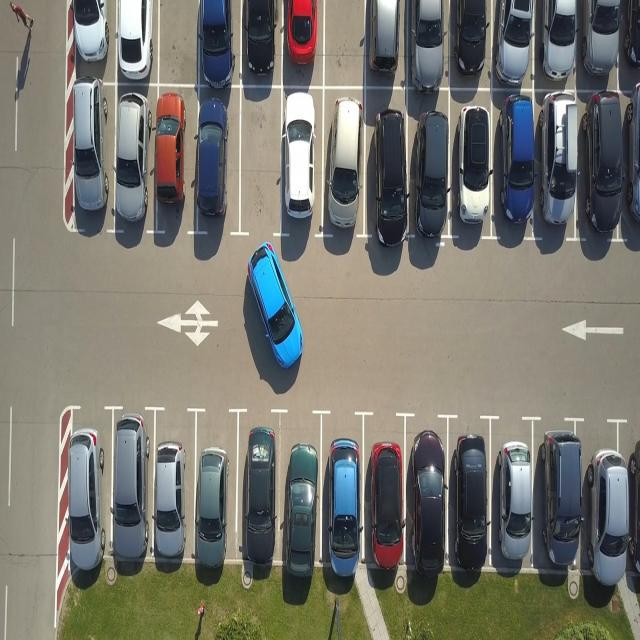space-empty: (237, 85, 283, 236), (321, 0, 369, 87), (155, 0, 199, 84)
space-occupied: (581, 434, 638, 593), (532, 417, 586, 578), (574, 92, 630, 241), (106, 402, 154, 572), (318, 408, 366, 577), (403, 412, 451, 575), (192, 405, 240, 567), (490, 90, 542, 237), (110, 71, 155, 237), (65, 81, 115, 230), (320, 86, 368, 241), (193, 85, 241, 239), (489, 415, 535, 572), (150, 84, 196, 240), (408, 100, 456, 241), (361, 406, 406, 554), (281, 86, 324, 239), (239, 404, 280, 557), (363, 86, 406, 230), (70, 405, 107, 570), (451, 411, 488, 573), (542, 90, 576, 253), (451, 85, 486, 241), (280, 409, 316, 555), (158, 405, 191, 564), (532, 0, 583, 88), (402, 0, 449, 94), (446, 0, 496, 88), (112, 0, 160, 84), (67, 0, 116, 82), (364, 0, 408, 87), (281, 0, 325, 85), (239, 0, 283, 85), (198, 0, 242, 84), (498, 0, 534, 95), (580, 4, 615, 90), (616, 0, 639, 85)
